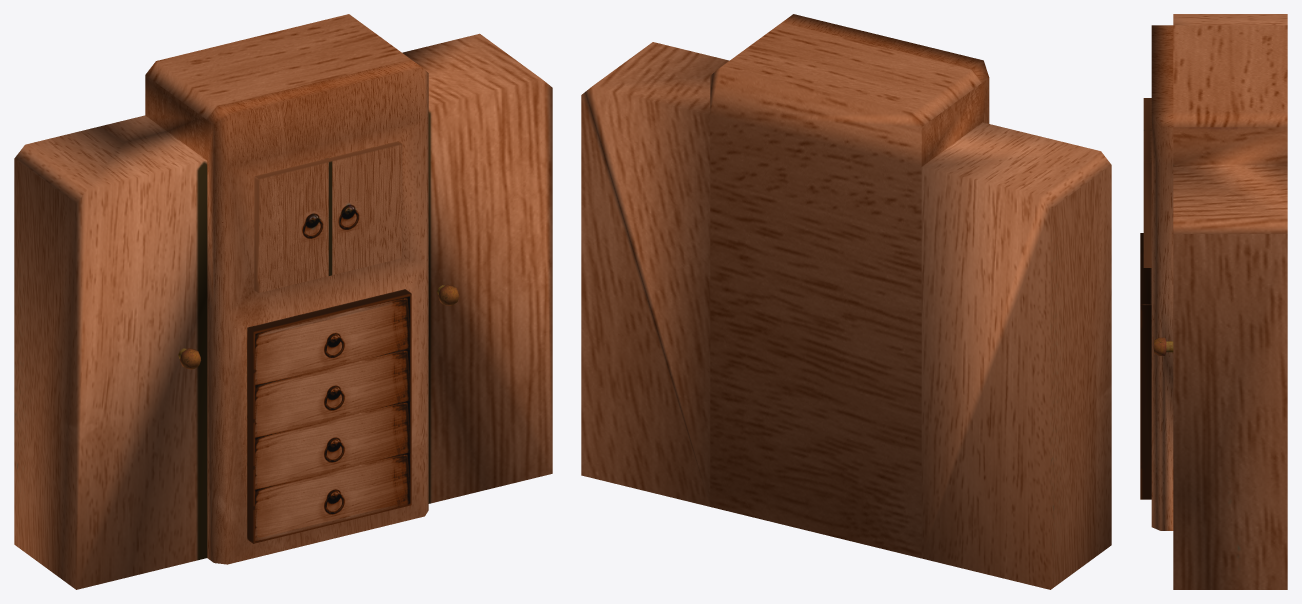
File: wardrobe 3.0.fbx
3 views of the same model, side by side, from view 1: azimuth 30°, elevation 25°; view 2: azimuth 150°, elevation 25°; view 3: azimuth 270°, elevation 25° (orthographic). The views are drawn at different scales.
Visible parts, largest first — view 1: Mesh001; view 2: Mesh001; view 3: Mesh001.
Boxes of the visible parts, box(x1,y1,x2,y2) form: Mesh001: box(14, 14, 552, 589); Mesh001: box(581, 14, 1111, 589); Mesh001: box(1140, 14, 1287, 589).
Size of the model in its own units: 222 by 200 by 64.5.
